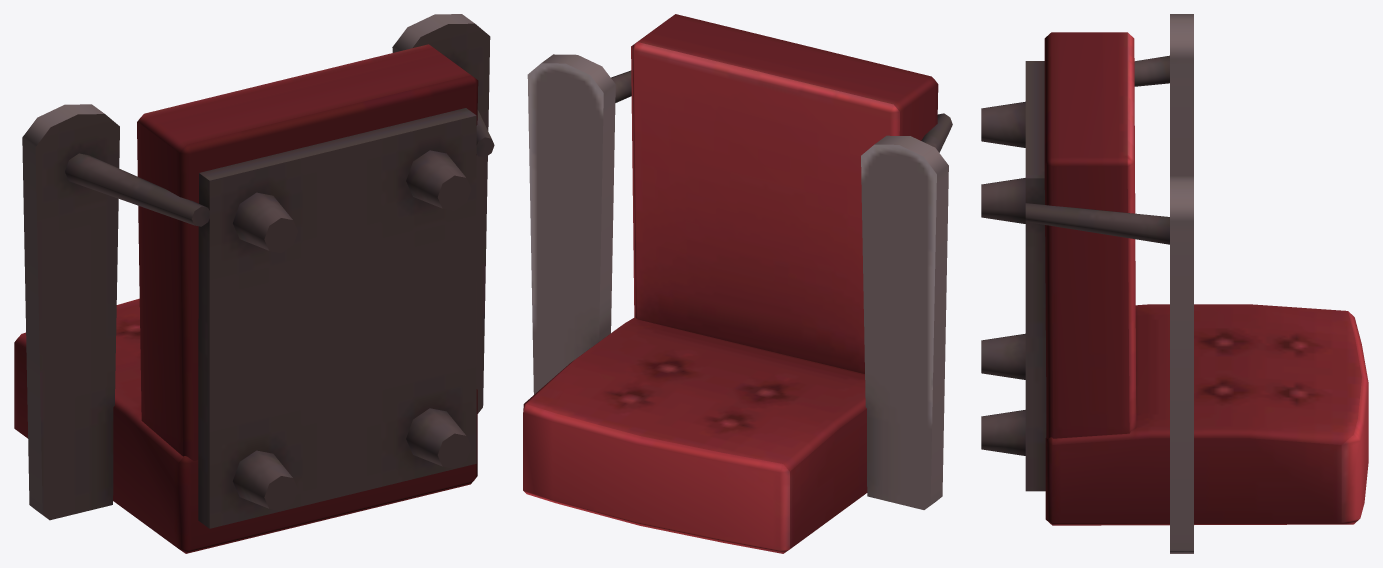
Rendered from RedChair.fbx.
3 renders of one model, left to right at view 1: azimuth 30°, elevation 25°; view 2: azimuth 150°, elevation 25°; view 3: azimuth 270°, elevation 25°, orthographic. The views are drawn at different scales.
Visible parts, largest first — view 1: RedChair; view 2: RedChair; view 3: RedChair.
Part boxes in pixels (left/top/right/bottom): RedChair: left=14, top=14, right=494, bottom=553; RedChair: left=523, top=14, right=952, bottom=553; RedChair: left=981, top=14, right=1368, bottom=553.
Bounding box in the file's own units: 75.64 × 65.13 × 62.09.
